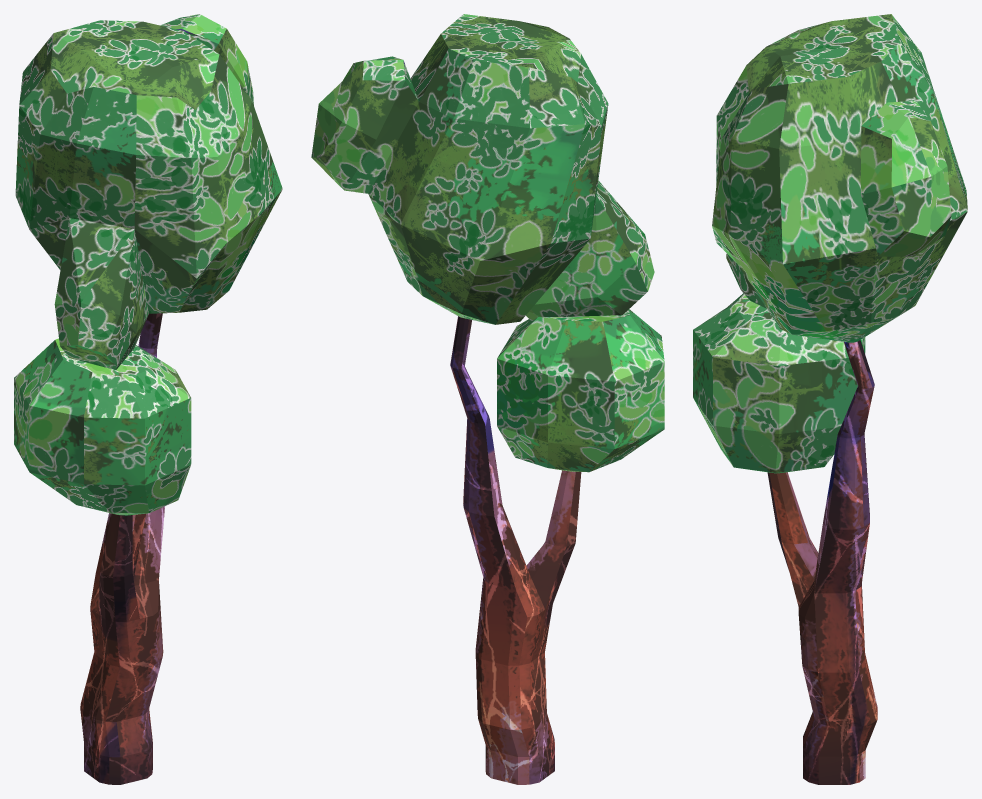
File: Tree1Textured.fbx
3 renders of one model, left to right at view 1: azimuth 30°, elevation 25°; view 2: azimuth 150°, elevation 25°; view 3: azimuth 270°, elevation 25°, orthographic.
Parts seen in each view (by area): view 1: Cube; view 2: Cube; view 3: Cube.
Part boxes in pixels (x1,y1,x2,y2): Cube: (14, 14, 282, 784); Cube: (311, 14, 664, 784); Cube: (693, 14, 967, 784).
Bounding box in the file's own units: 1074 × 2614 × 880.
Materials: 2 (2 with a texture image).
